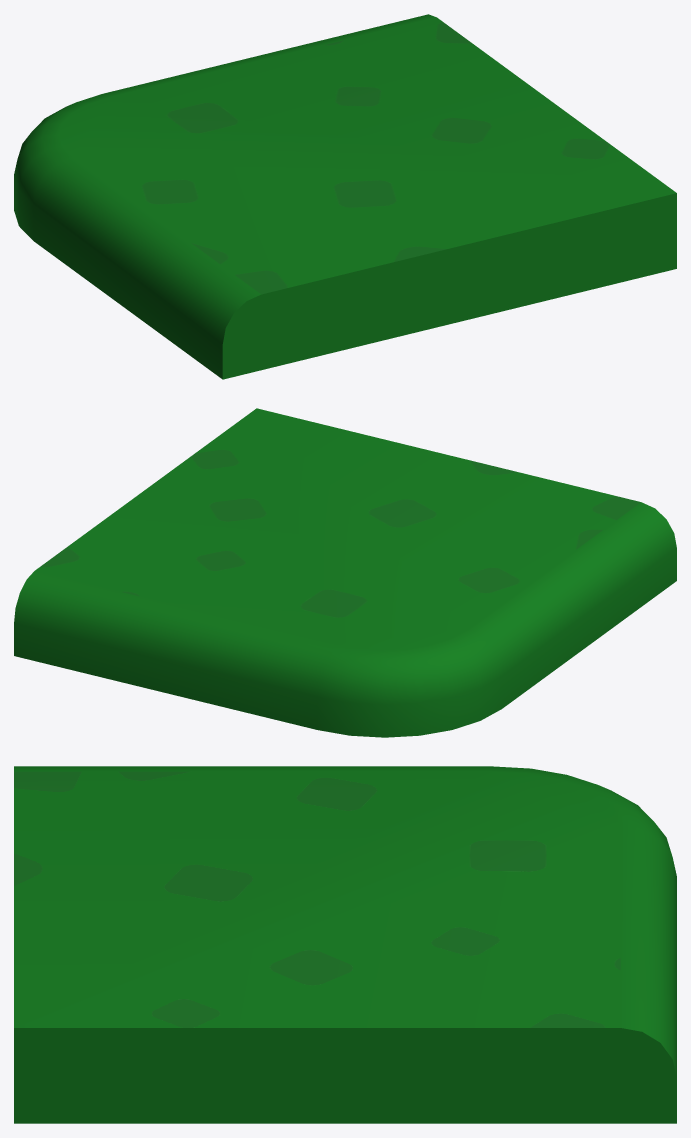
The model's file is GF_Corner_2_3.glb.
3 renders of one model, top to bottom at view 1: azimuth 30°, elevation 25°; view 2: azimuth 150°, elevation 25°; view 3: azimuth 270°, elevation 25°, orthographic. The views are drawn at different scales.
Parts seen in each view (by area): view 1: GF_Corner_2_3; view 2: GF_Corner_2_3; view 3: GF_Corner_2_3.
Part boxes in pixels (<box>): GF_Corner_2_3: <box>14,14,676,379</box>; GF_Corner_2_3: <box>14,408,676,737</box>; GF_Corner_2_3: <box>14,766,676,1123</box>.
Bounding box in the file's own units: 2 × 0.3187 × 2.
Materials: 1 (1 with a texture image).
